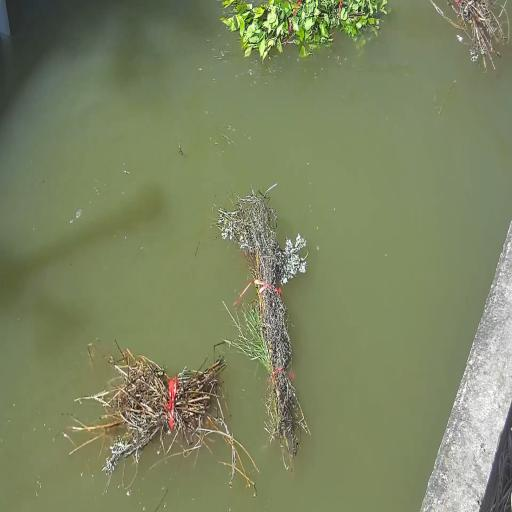twig: (212, 185, 325, 464), (97, 333, 258, 498), (222, 0, 385, 54), (426, 0, 512, 67)
